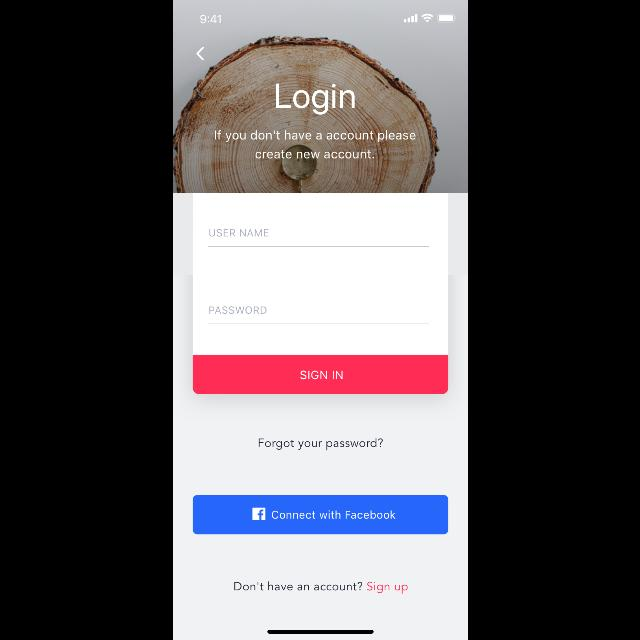icon: (195, 47, 203, 61)
image: (172, 0, 468, 194)
input: (207, 306, 429, 324), (207, 229, 429, 247)
text: (214, 130, 416, 160), (276, 84, 354, 116), (234, 582, 408, 594), (258, 438, 382, 450), (208, 229, 268, 237), (208, 306, 266, 314)
textbutton: (192, 496, 448, 534), (192, 356, 448, 394)
uppertaskbar: (199, 14, 456, 24)
